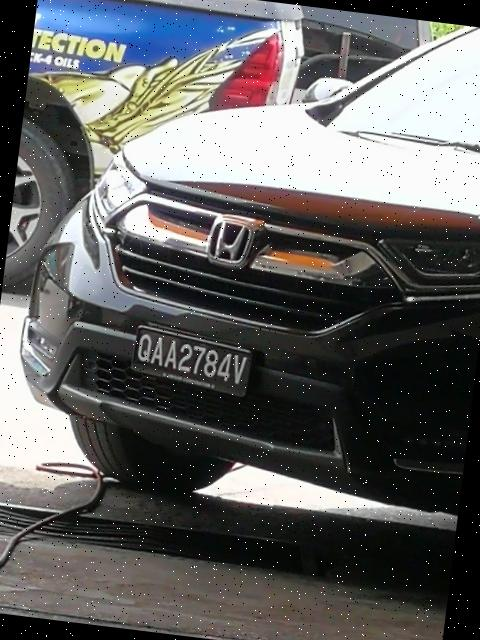License_Plate: (131, 328, 255, 400)
car: (23, 1, 480, 538)
